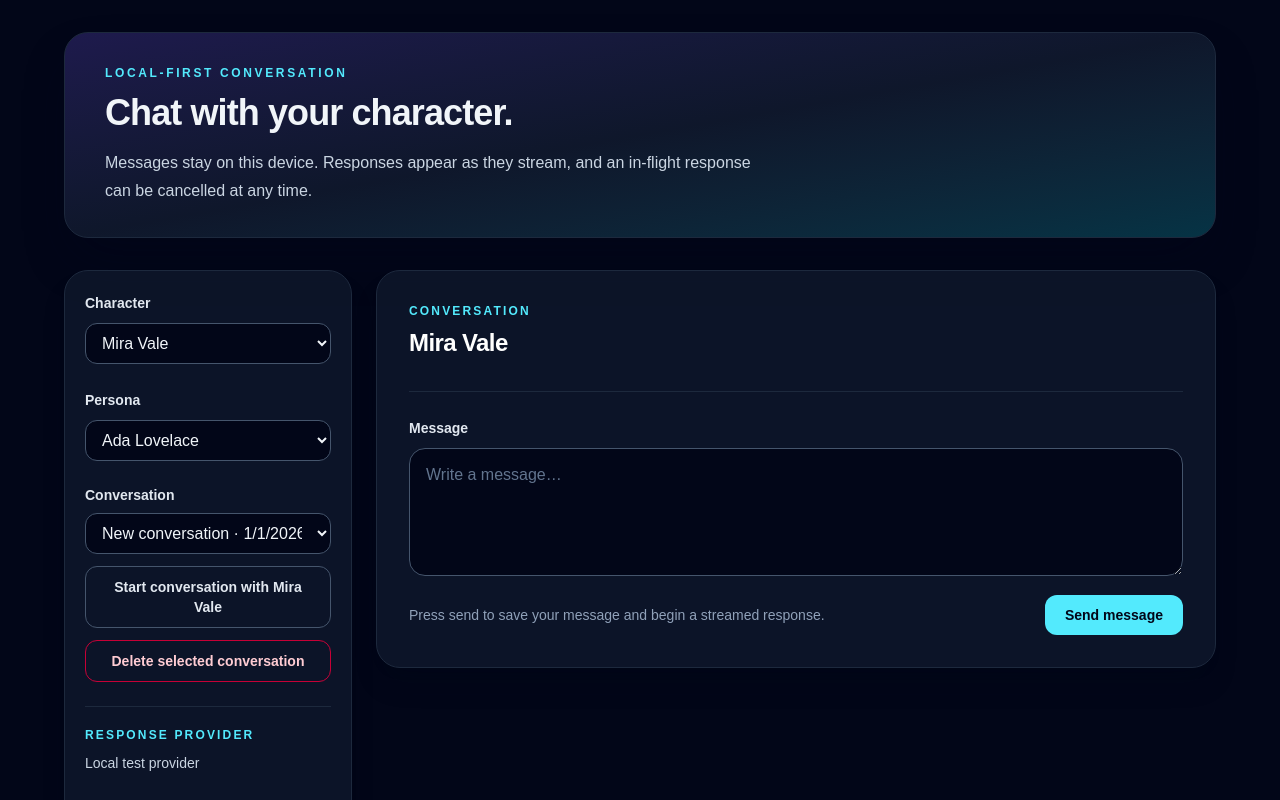
Test case: ChatScreen › renders a character conversation and displays a streamed reply
Expected: the heading "Chat with your character." is shown, [105,92,513,133]
Expected: the dropdown labelled "Character" shows "Mira Vale", [85,323,331,364]
Type "Help me choose a direction." into the text box labelled "Message".
click(796, 512); type("Help me choose a direction.")  # box [409,448,1183,576]
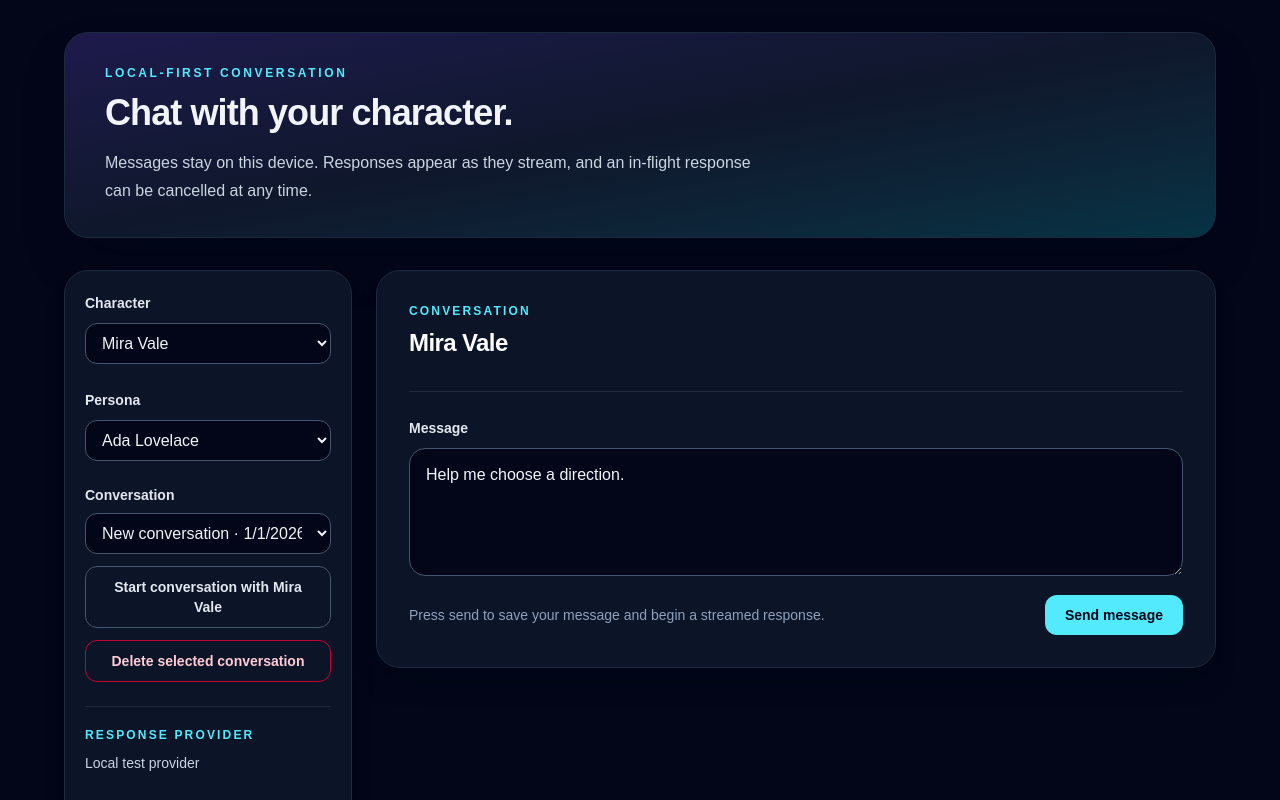
Click the button "Send message".
click(1114, 615)  # box [1045,595,1183,635]
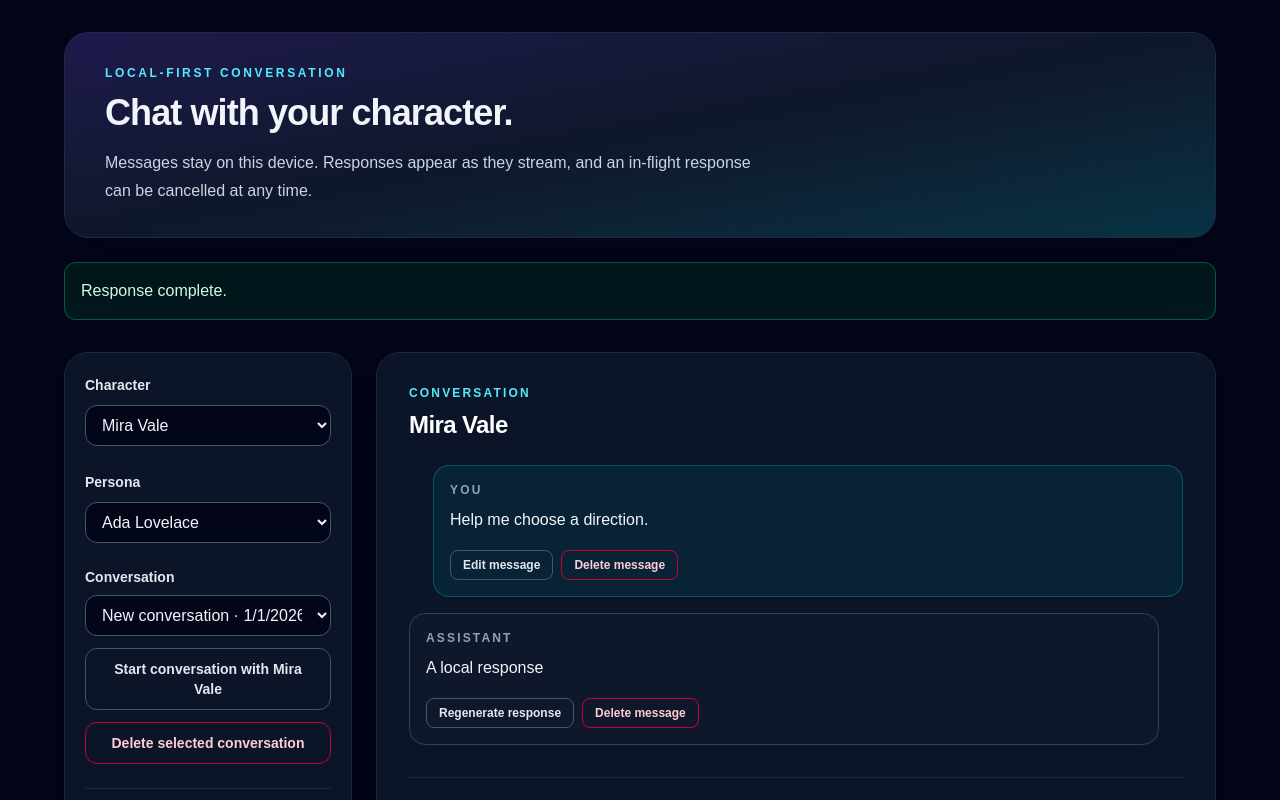
Now the text "A local response" is shown, box [426,659,543,676]
Now the text "Response complete." is shown, box [64,262,1216,320]
